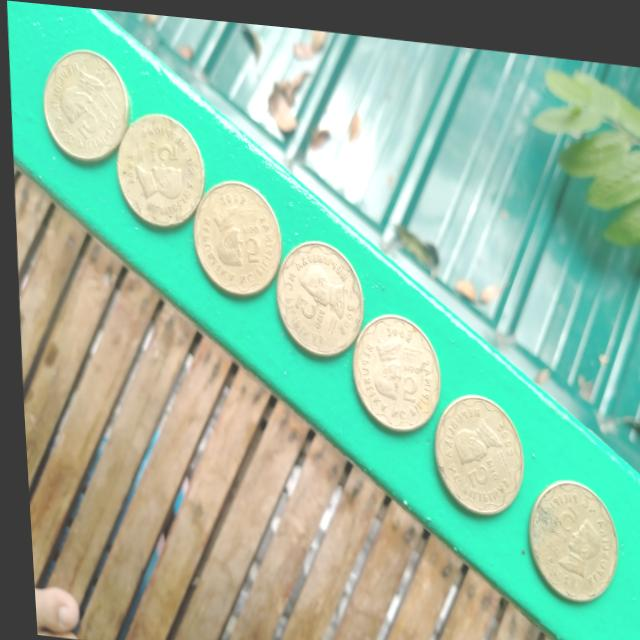5_Old_Front: (433, 392, 510, 499), (272, 243, 356, 336), (530, 485, 608, 582), (198, 186, 274, 280)
